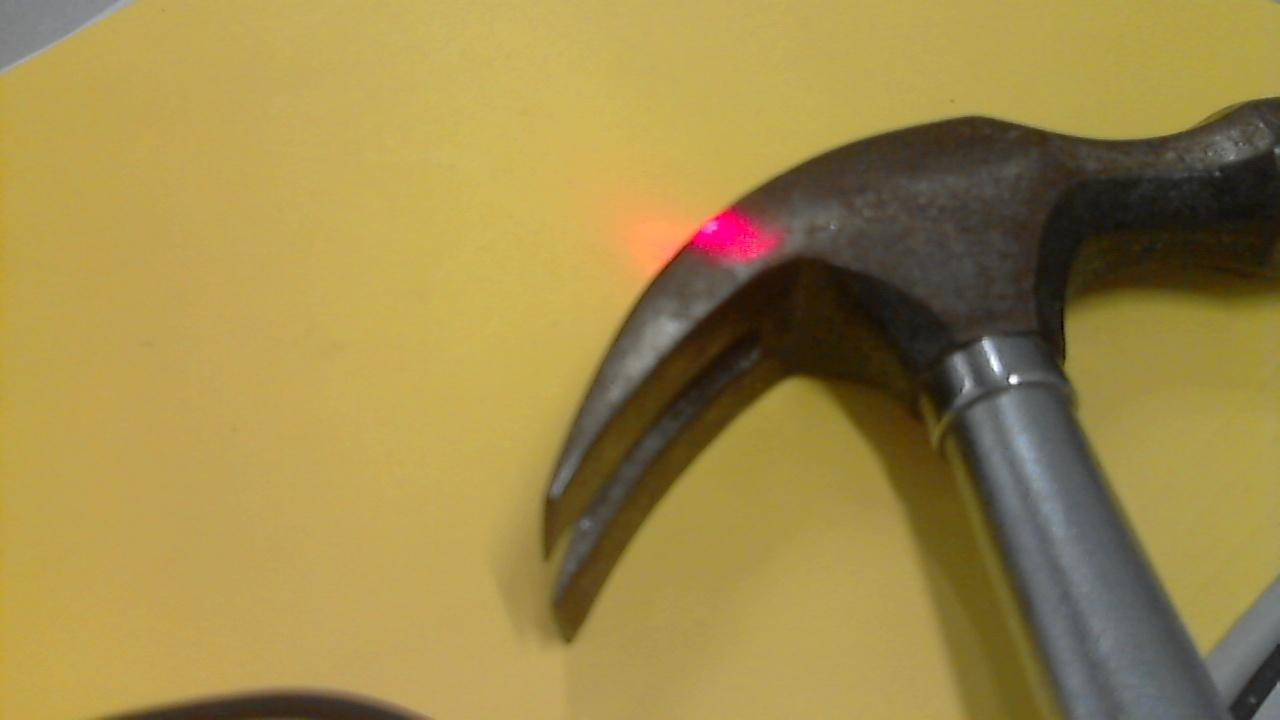Object claw hammer -Material metal - Pdfname 2LKzx9zgCNVB: (679, 203, 792, 271)
